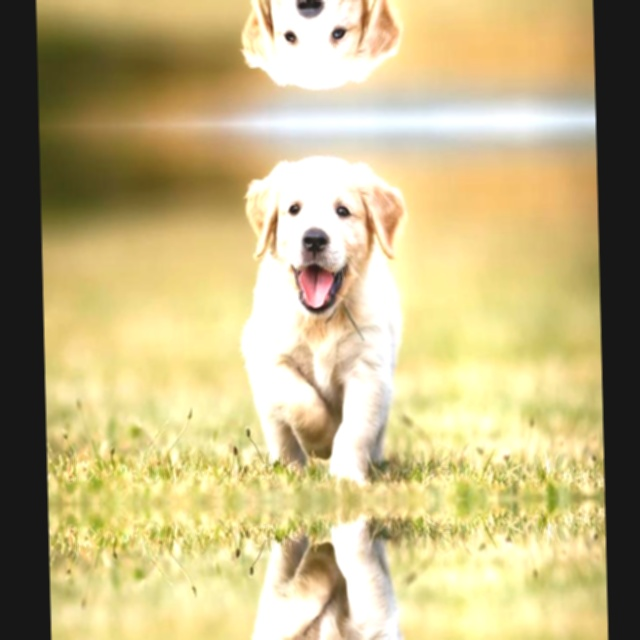dog: (233, 144, 425, 492), (242, 509, 429, 640), (230, 0, 416, 101)
